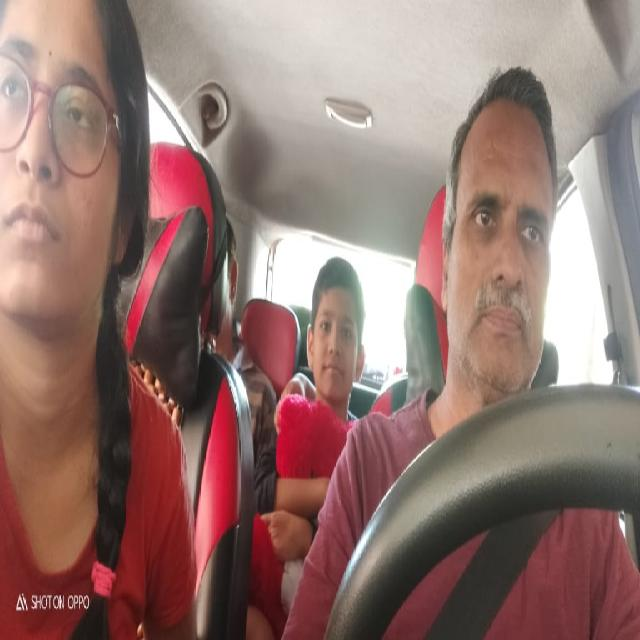person: (0, 2, 133, 312), (450, 92, 552, 383), (314, 260, 361, 392), (224, 231, 240, 341)
